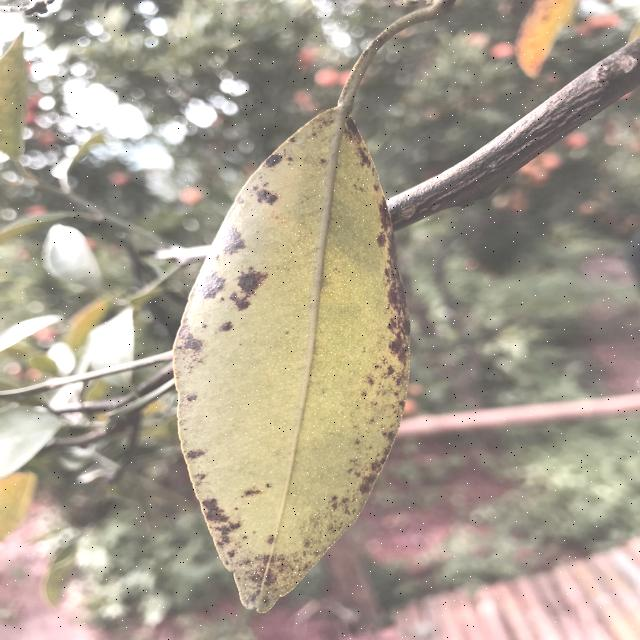melanose: (154, 104, 416, 616)
